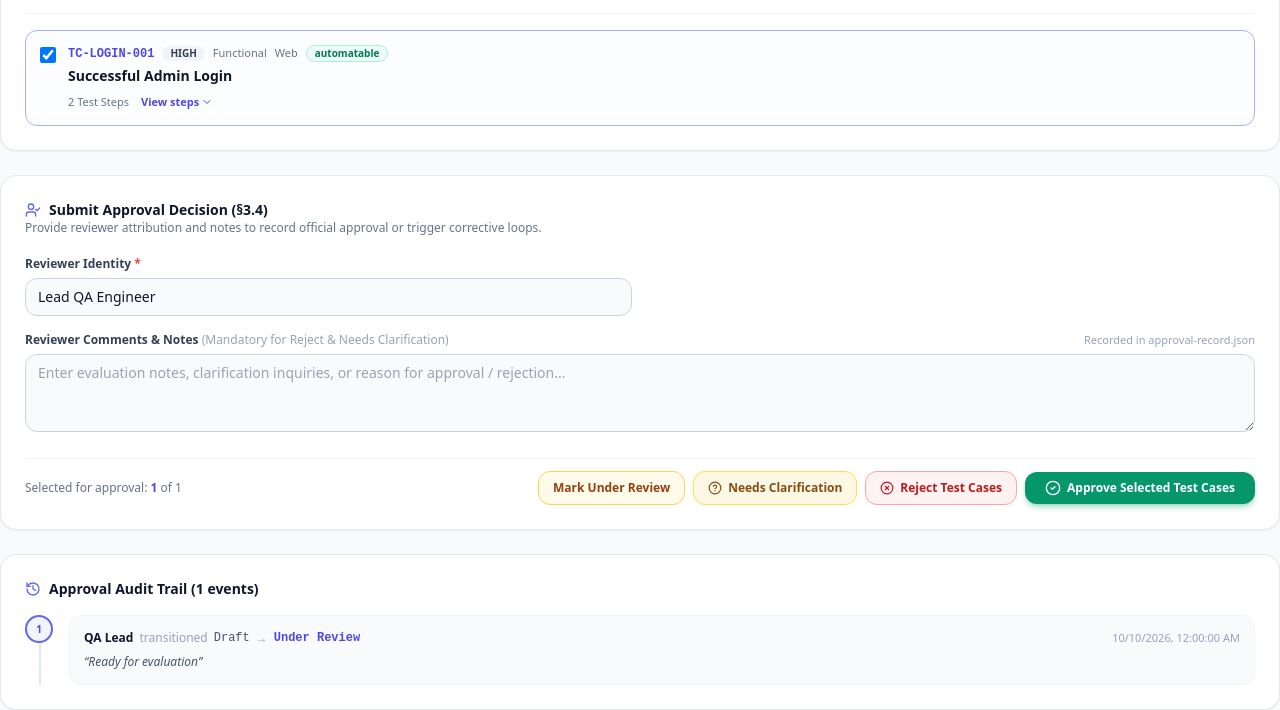
Scenario: ApprovalGateView component (§W3) › validates mandatory reviewer comments when requesting clarification or rejecting
The width and height of the screenshot is (1280, 710).
(page scrolled)
Expected: the heading "Successful Admin Login" is shown, [68, 66, 232, 85]
Note: Attempt rejection with empty comments
Click the button "Reject Test Cases". click: point(941, 488)
box: [865, 471, 1017, 505]
(page scrolled)
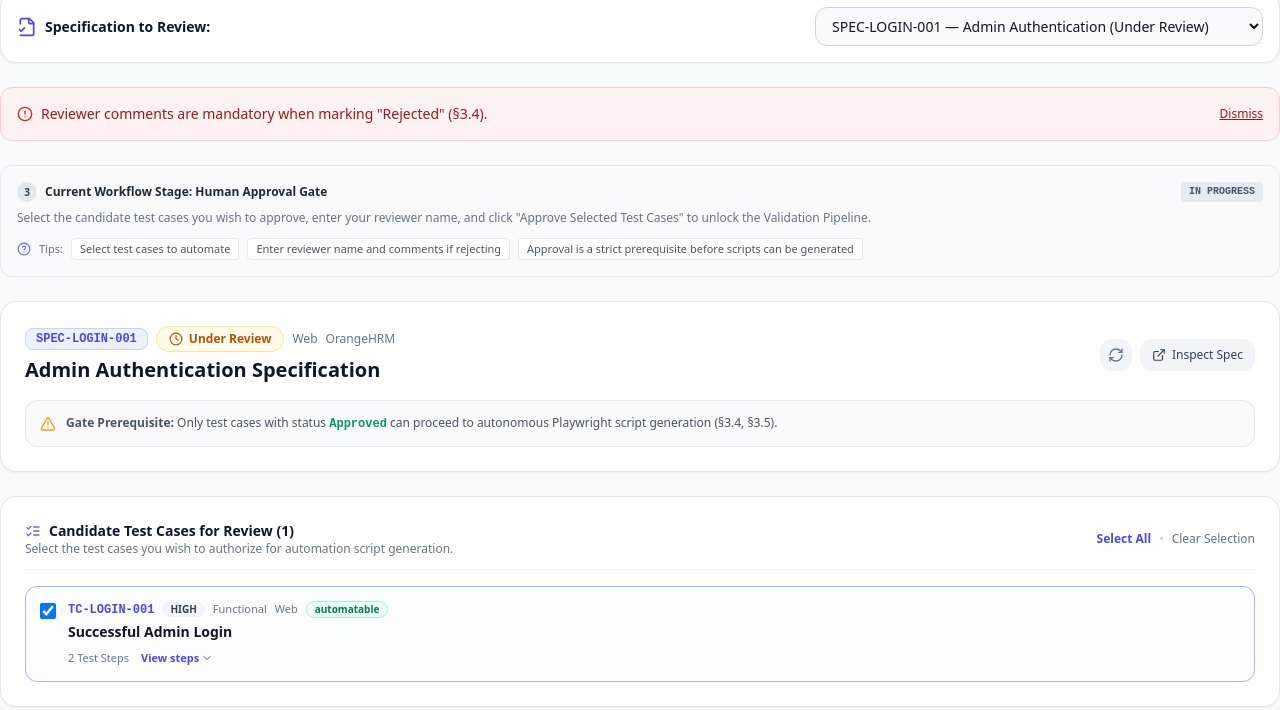
Expected: the text "Reviewer comments are mandatory when marking \"Rejected\"" is shown, [41, 104, 488, 123]
